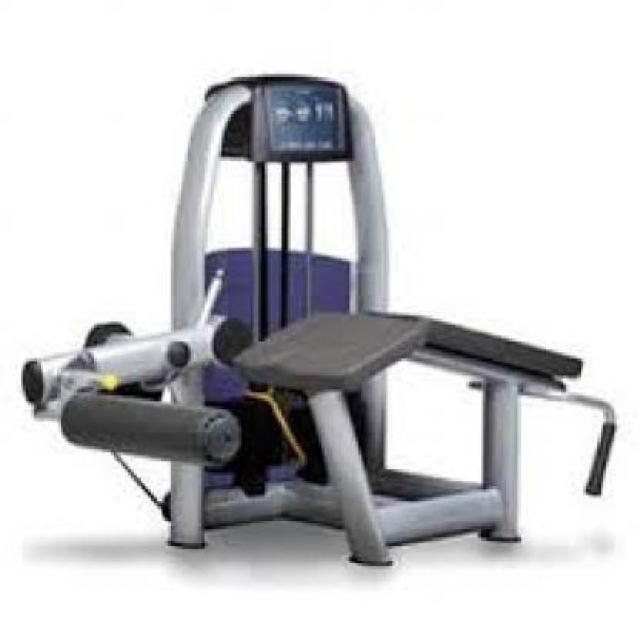reg curl machine: (22, 71, 628, 571)
